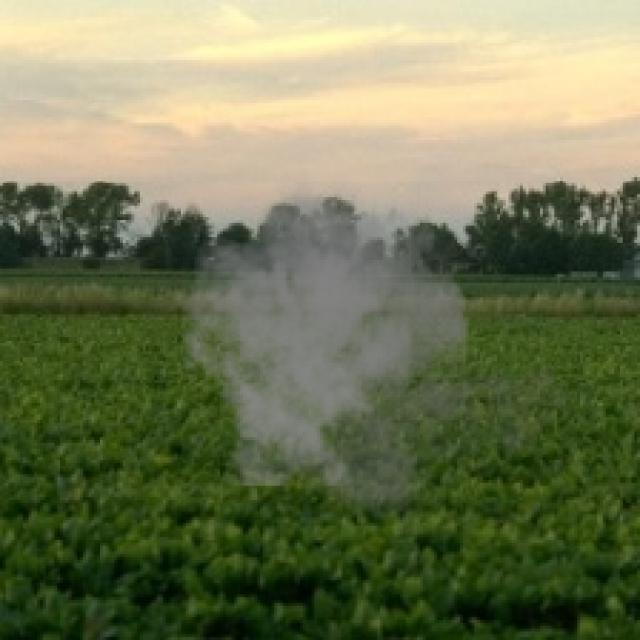Smoke: (172, 168, 574, 528)
